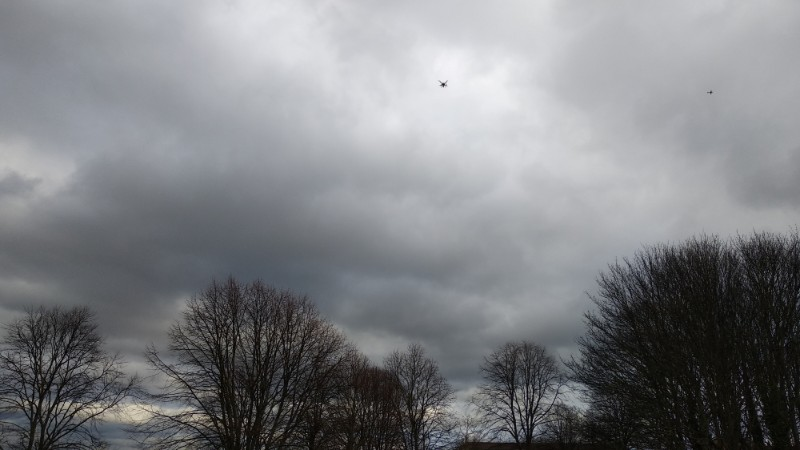drone: (438, 79, 449, 88)
